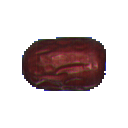gd: (15, 18, 122, 101)
